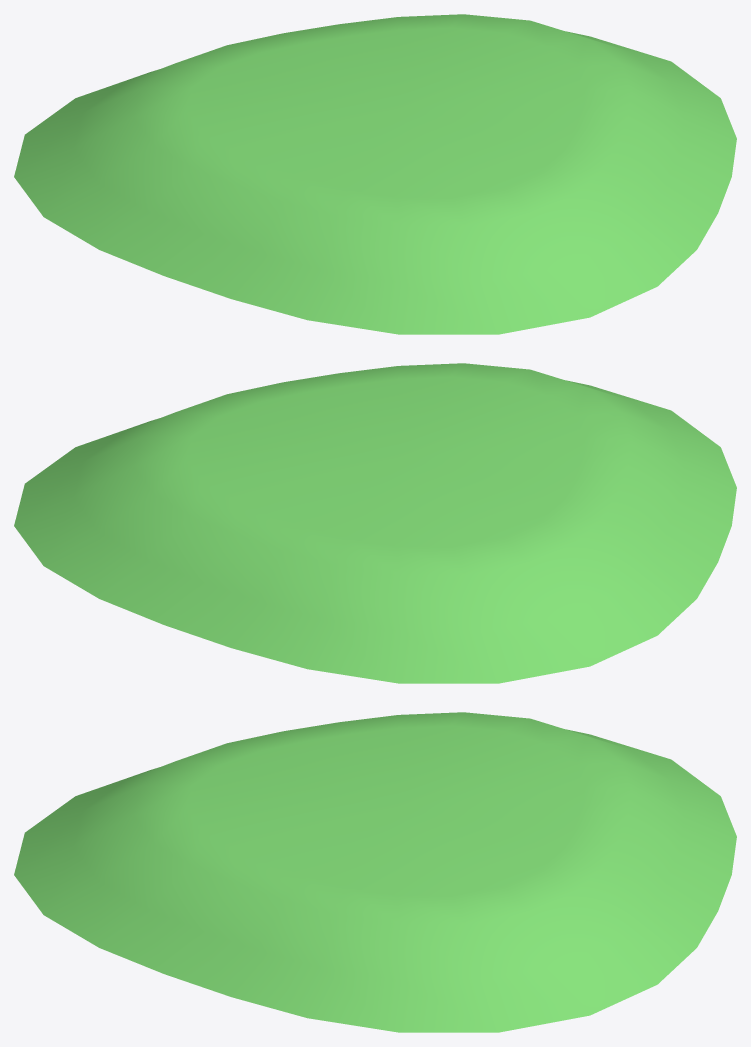
Rendered from terrain_hill_knoll_6x6.glb.
3 views of the same model, one above another, from view 1: azimuth 30°, elevation 25°; view 2: azimuth 150°, elevation 25°; view 3: azimuth 270°, elevation 25° (orthographic).
Visible parts, largest first — view 1: Mesh_Hill_Knoll; view 2: Mesh_Hill_Knoll; view 3: Mesh_Hill_Knoll.
Part boxes in pixels (box(x1,y1,x2,y2)): Mesh_Hill_Knoll: box(14, 14, 736, 334); Mesh_Hill_Knoll: box(14, 363, 736, 683); Mesh_Hill_Knoll: box(14, 712, 736, 1032).
Size of what is drawn, in the model's own units: 11.76 by 1.18 by 11.68.
